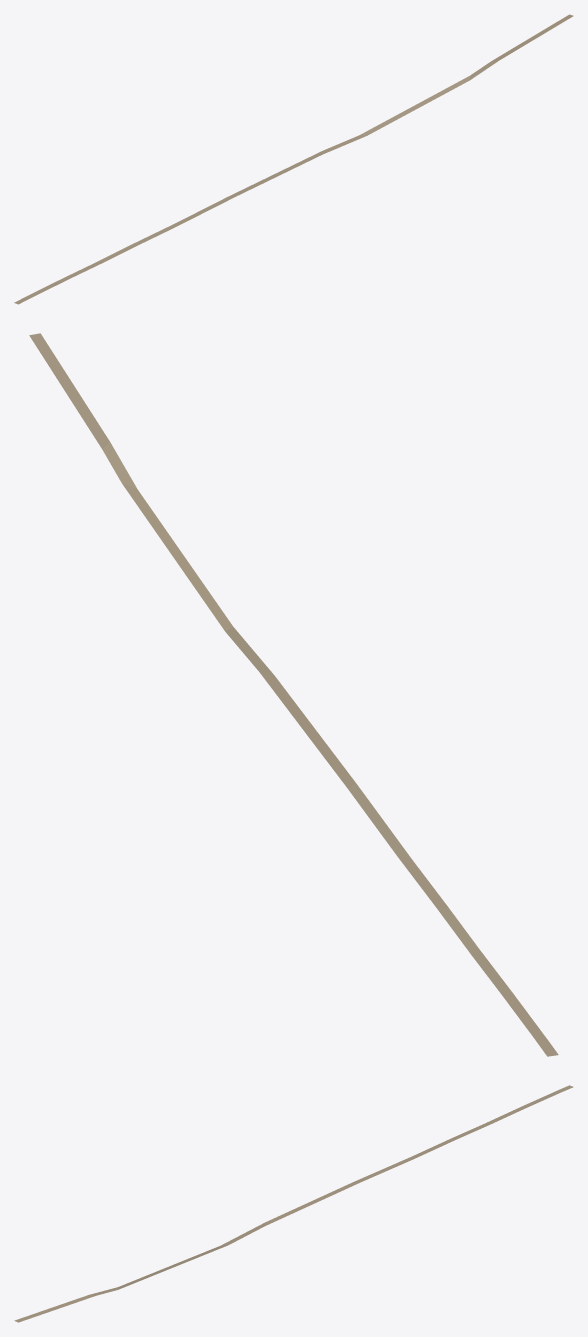
The model's file is farm_-37_-29_track.glb.
The picture shows the model from 3 angles, top to bottom: view 1: azimuth 90°, elevation 25°; view 2: azimuth 150°, elevation 25°; view 3: azimuth 270°, elevation 25°; orthographic projection. The views are drawn at different scales.
Visible parts, largest first — view 1: geometry_0; view 2: geometry_0; view 3: geometry_0.
Part boxes in pixels (bbox=[...]): geometry_0: bbox=[14, 14, 573, 304]; geometry_0: bbox=[29, 333, 558, 1056]; geometry_0: bbox=[14, 1085, 573, 1322].
Bounding box in the file's own units: 339 × 15.95 × 304.
